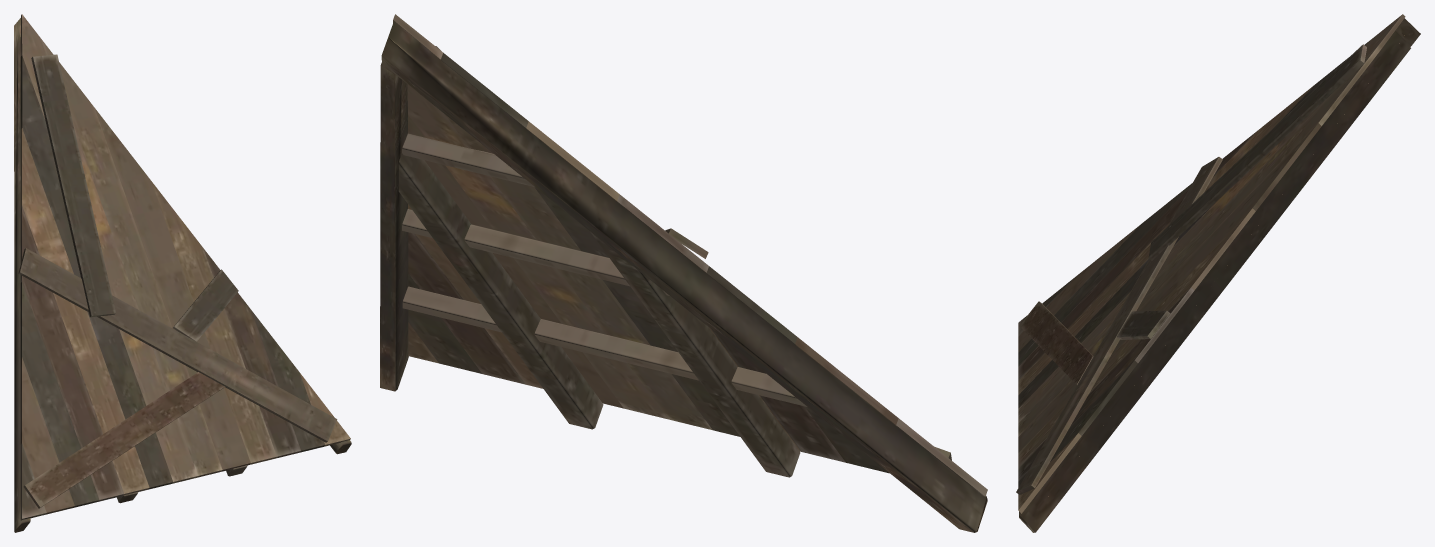
The model's file is roof.triangle.frontier.up.glb.
The picture shows the model from 3 angles, left to right: view 1: azimuth 30°, elevation 25°; view 2: azimuth 150°, elevation 25°; view 3: azimuth 270°, elevation 25°; orthographic projection. The views are drawn at different scales.
Visible parts, largest first — view 1: roof.triangle.up_LOD0; view 2: roof.triangle.up_LOD0; view 3: roof.triangle.up_LOD0.
Part boxes in pixels (<box>): roof.triangle.up_LOD0: <box>14,14,351,532</box>; roof.triangle.up_LOD0: <box>380,14,987,532</box>; roof.triangle.up_LOD0: <box>1016,14,1420,532</box>.
Bounding box in the file's own units: 3.02 × 3.16 × 2.74.
Materials: 1 (1 with a texture image).
